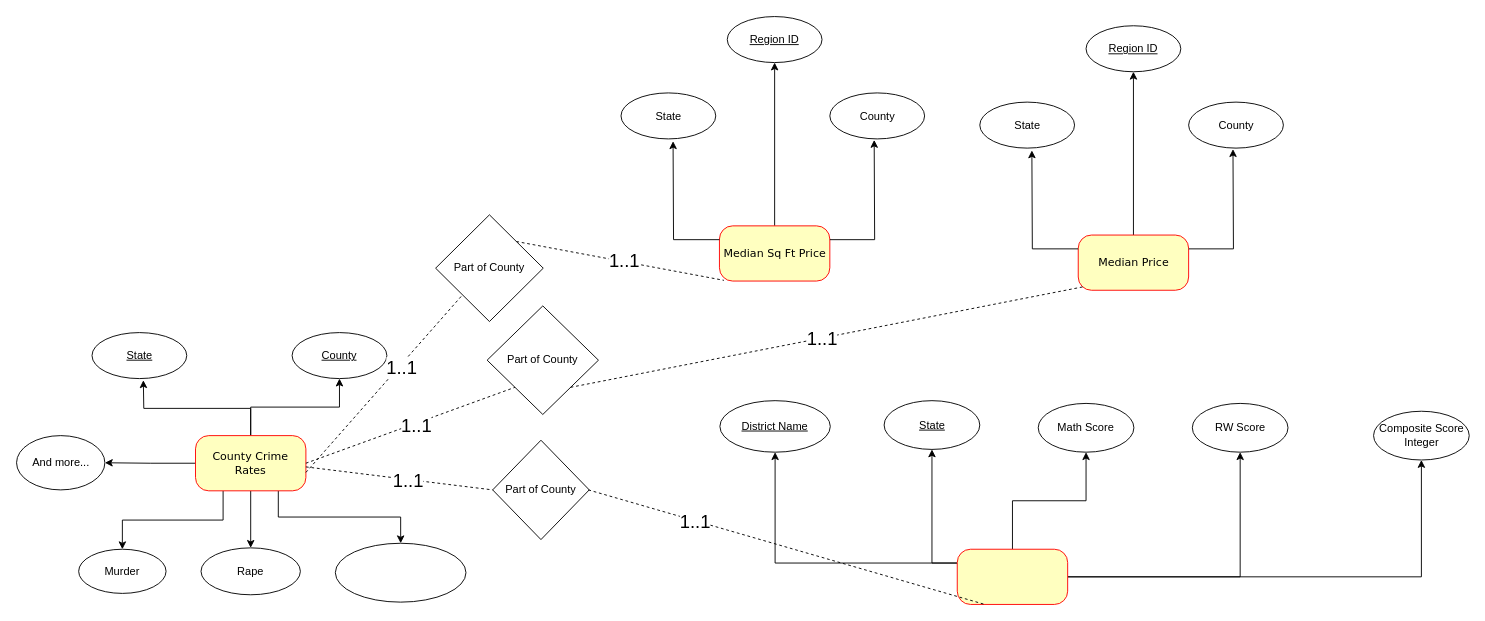
Image size: 1485x621. Some labels were removed from this diagram. The shapes that lost their labels are listed below. From the top down, each one's box as (x1, y1, x2, y2) in pixels, then its label:
(334, 542, 466, 602): Crime Rate per 100k people
(956, 548, 1068, 604): SAT Score
